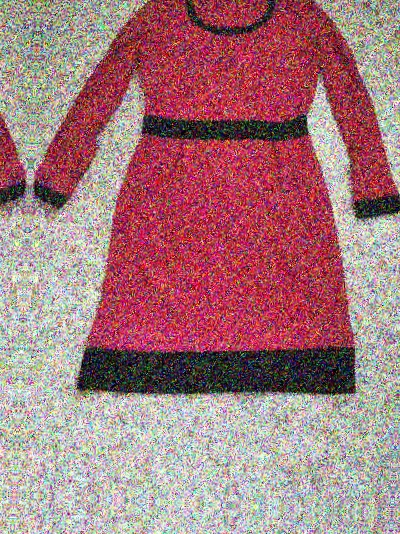Dress: (27, 0, 400, 428), (0, 0, 32, 409), (399, 0, 400, 447)
